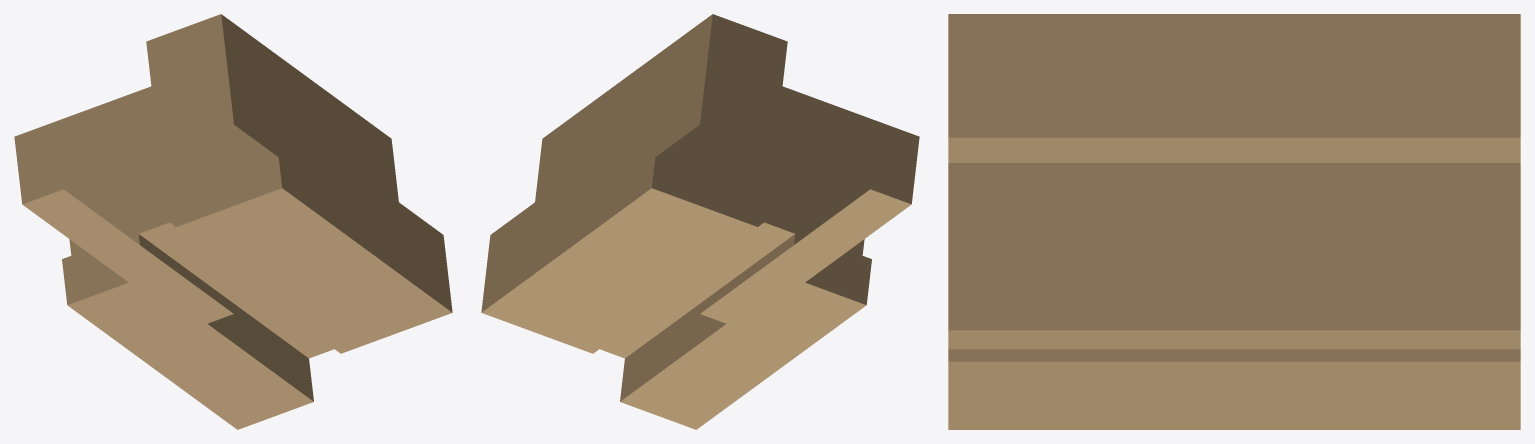
3 views of the same model, side by side, from view 1: azimuth 30°, elevation 25°; view 2: azimuth 150°, elevation 25°; view 3: azimuth 270°, elevation 25° (orthographic). The views are drawn at different scales.
Visible parts, largest first — view 1: 0_0_1_3_1_2_0_0; view 2: 0_0_1_3_1_2_0_0; view 3: 0_0_1_3_1_2_0_0.
Part boxes in pixels (x1,y1,x2,y2): 0_0_1_3_1_2_0_0: (14,14,452,429); 0_0_1_3_1_2_0_0: (481,14,919,429); 0_0_1_3_1_2_0_0: (948,14,1520,429).
Size of the model in its own units: 21.79 by 19.72 by 24.
